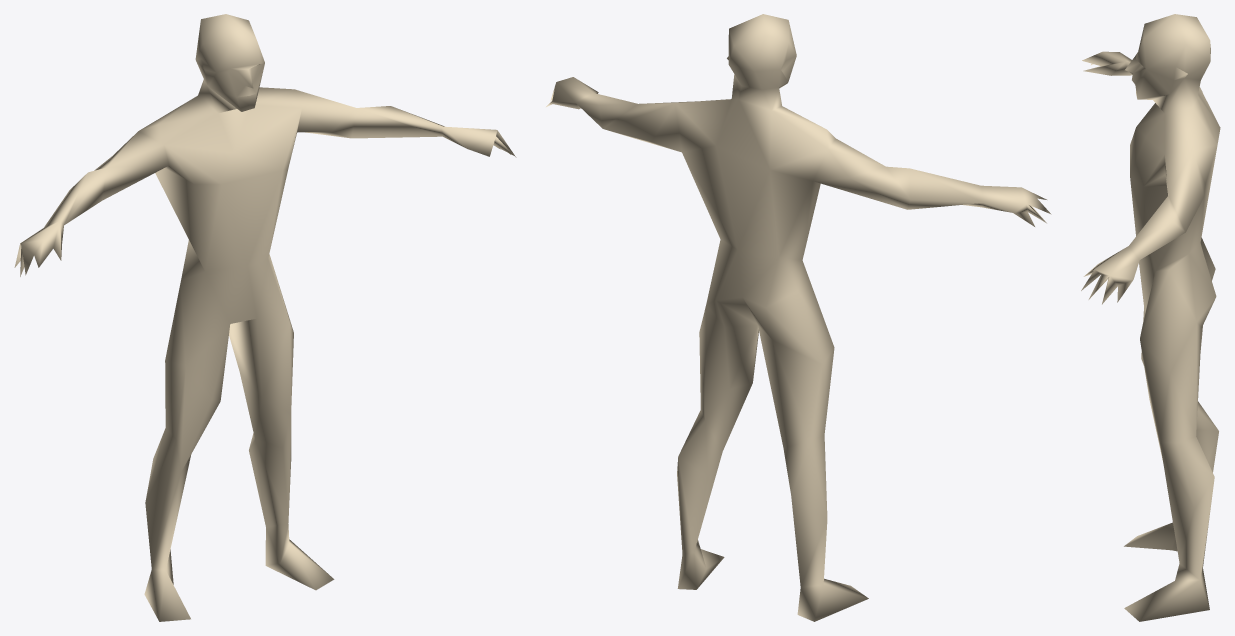
Rendered from Inventeur_mesh.fbx.
3 views of the same model, side by side, from view 1: azimuth 30°, elevation 25°; view 2: azimuth 150°, elevation 25°; view 3: azimuth 270°, elevation 25° (orthographic). The views are drawn at different scales.
Parts seen in each view (by area): view 1: Chara_Base_mesh; view 2: Chara_Base_mesh; view 3: Chara_Base_mesh.
Part boxes in pixels (box(x1,y1,x2,y2)): Chara_Base_mesh: box(14, 14, 516, 621); Chara_Base_mesh: box(546, 14, 1051, 621); Chara_Base_mesh: box(1081, 14, 1220, 621).
Bounding box in the file's own units: 144 × 161 × 36.07.
